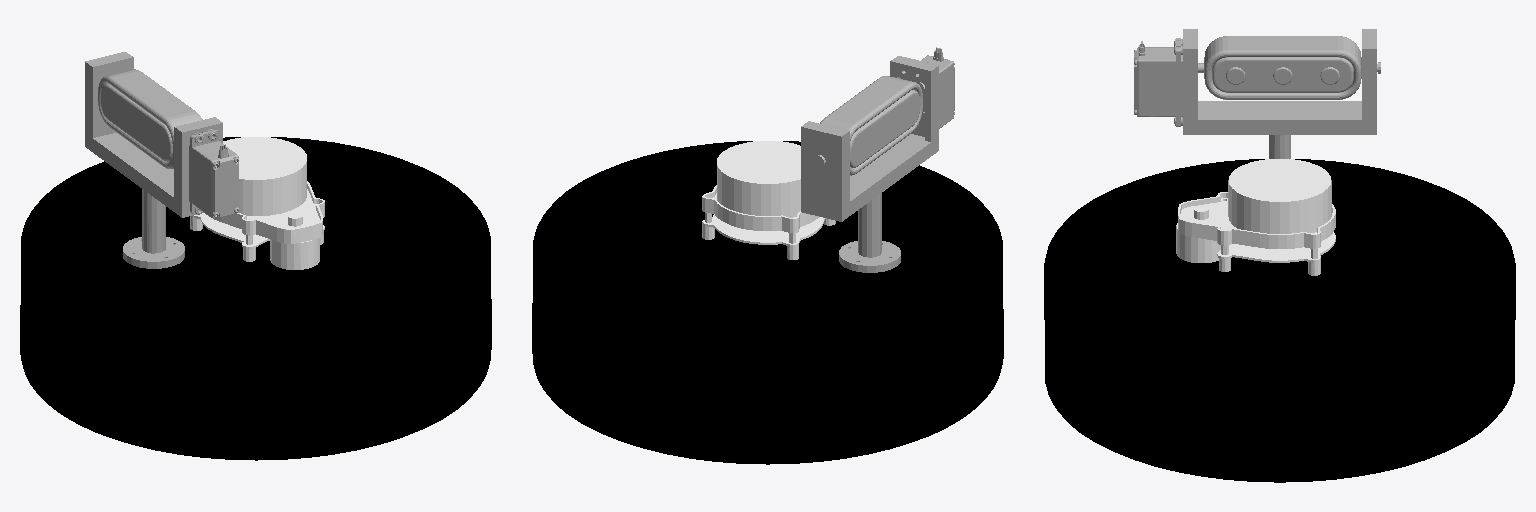
URDF robot description (rbot):
<?xml version="1.0" encoding="utf-8"?>
<!-- This URDF was automatically created by SolidWorks to URDF Exporter! Originally created by [author] ([email redacted]) 
     Commit Version: 1.6.0-4-g7f85cfe  Build Version: 1.6.7995.38578
     For more information, please see http://wiki.ros.org/sw_urdf_exporter -->
<robot
  name="rbot">
  <link
    name="base_link">
    <inertial>
      <origin
        xyz="-0.012172 0.00015707 -0.048435"
        rpy="0 0 0" />
      <mass
        value="5.4228" />
      <inertia
        ixx="0.0083305"
        ixy="-1.3518E-07"
        ixz="0.00024797"
        iyy="0.0087755"
        iyz="-8.3209E-07"
        izz="0.016381" />
    </inertial>
    <visual>
      <origin
        xyz="0 0 0"
        rpy="0 0 0" />
      <geometry>
        <mesh
          filename="package://rbot/meshes/base_link.STL" />
      </geometry>
      <material
        name="">
        <color
          rgba="0 0 0 0" />
      </material>
    </visual>
    <collision>
      <origin
        xyz="0 0 0"
        rpy="0 0 0" />
      <geometry>
        <mesh
          filename="package://rbot/meshes/base_link.STL" />
      </geometry>
    </collision>
  </link>
  <link
    name="fWheel">
    <inertial>
      <origin
        xyz="1.6653E-15 0.004 4.996E-16"
        rpy="0 0 0" />
      <mass
        value="0.34828" />
      <inertia
        ixx="1.4979E-06"
        ixy="6.8554E-39"
        ixz="-6.3017E-39"
        iyy="2.6586E-06"
        iyz="4.4557E-21"
        izz="1.4979E-06" />
    </inertial>
    <visual>
      <origin
        xyz="0 0 0"
        rpy="0 0 0" />
      <geometry>
        <mesh
          filename="package://rbot/meshes/fWheel.STL" />
      </geometry>
      <material
        name="">
        <color
          rgba="0.79216 0.81961 0.93333 1" />
      </material>
    </visual>
    <collision>
      <origin
        xyz="0 0 0"
        rpy="0 0 0" />
      <geometry>
        <mesh
          filename="package://rbot/meshes/fWheel.STL" />
      </geometry>
    </collision>
  </link>
  <joint
    name="fWheel_bc"
    type="continuous">
    <origin
      xyz="0.10498 -0.004012 -0.09452"
      rpy="0 0 0" />
    <parent
      link="base_link" />
    <child
      link="fWheel" />
    <axis
      xyz="0 -1 0" />
          <joint_properties damping="0.1" friction="1.0"/>
                <limit effort="2.6" velocity="20"/>
  </joint>
  <link
    name="l_rWheel">
    <inertial>
      <origin
        xyz="3.3862E-15 0.010693 1.6653E-15"
        rpy="0 0 0" />
      <mass
        value="0.52108" />
      <inertia
        ixx="8.5294E-05"
        ixy="-2.2354E-20"
        ixz="-1.1654E-19"
        iyy="1.5938E-04"
        iyz="5.156E-19"
        izz="8.5294E-05" />
    </inertial>
    <visual>
      <origin
        xyz="0 0 0"
        rpy="0 0 0" />
      <geometry>
        <mesh
          filename="package://rbot/meshes/l_rWheel.STL" />
      </geometry>
      <material
        name="">
        <color
          rgba="0.75294 0.75294 0.75294 1" />
      </material>
    </visual>
    <collision>
      <origin
        xyz="0 0 0"
        rpy="0 0 0" />
      <geometry>
        <mesh
          filename="package://rbot/meshes/l_rWheel.STL" />
      </geometry>
    </collision>
  </link>
  <joint
    name="l_rWheel_bc"
    type="continuous">
    <origin
      xyz="-0.047024 0.074988 -0.08"
      rpy="0 0 0" />
    <parent
      link="base_link" />
    <child
      link="l_rWheel" />
    <axis
      xyz="0 1 0" />
          <joint_properties damping="0.1" friction="1.0"/>
                <limit effort="2.6" velocity="20"/>
  </joint>
  <link
    name="r_rWheel">
    <inertial>
      <origin
        xyz="-1.6653E-16 0.0083074 0"
        rpy="0 0 0" />
      <mass
        value="0.52108" />
      <inertia
        ixx="8.5294E-05"
        ixy="-1.5452E-18"
        ixz="1.7644E-20"
        iyy="1.5938E-04"
        iyz="4.8937E-20"
        izz="8.5294E-05" />
    </inertial>
    <visual>
      <origin
        xyz="0 0 0"
        rpy="0 0 0" />
      <geometry>
        <mesh
          filename="package://rbot/meshes/r_rWheel.STL" />
      </geometry>
      <material
        name="">
        <color
          rgba="0.75294 0.75294 0.75294 1" />
      </material>
    </visual>
    <collision>
      <origin
        xyz="0 0 0"
        rpy="0 0 0" />
      <geometry>
        <mesh
          filename="package://rbot/meshes/r_rWheel.STL" />
      </geometry>
    </collision>
  </link>
  <joint
    name="r_rWheel_bc"
    type="continuous">
    <origin
      xyz="-0.047024 -0.094012 -0.08"
      rpy="0 0 0" />
    <parent
      link="base_link" />
    <child
      link="r_rWheel" />
    <axis
      xyz="0 1 0" />
          <joint_properties damping="0.1" friction="1.0"/>
                <limit effort="2.6" velocity="20"/>
  </joint>
  <link
    name="fan">
    <inertial>
      <origin
        xyz="-1.1102E-16 -2.7756E-17 0.0077206"
        rpy="0 0 0" />
      <mass
        value="0.025691" />
      <inertia
        ixx="8.875E-07"
        ixy="-5.0086E-23"
        ixz="-2.4209E-21"
        iyy="8.875E-07"
        iyz="1.8061E-22"
        izz="1.6294E-06" />
    </inertial>
    <visual>
      <origin
        xyz="0 0 0"
        rpy="0 0 0" />
      <geometry>
        <mesh
          filename="package://rbot/meshes/fan.STL" />
      </geometry>
      <material
        name="">
        <color
          rgba="0.79216 0.81961 0.93333 1" />
      </material>
    </visual>
    <collision>
      <origin
        xyz="0 0 0"
        rpy="0 0 0" />
      <geometry>
        <mesh
          filename="package://rbot/meshes/fan.STL" />
      </geometry>
    </collision>
  </link>
  <joint
    name="fan_bc"
    type="continuous">
    <origin
      xyz="0.009976 -1.1899E-05 -0.069083"
      rpy="0 0 0" />
    <parent
      link="base_link" />
    <child
      link="fan" />
    <axis
      xyz="0 0 -1" />
  </joint>
  <link
    name="Camera_base">
    <inertial>
      <origin
        xyz="5.9319E-05 -0.017419 0.063064"
        rpy="0 0 0" />
      <mass
        value="0.20962" />
      <inertia
        ixx="0.00017945"
        ixy="-2.6127E-09"
        ixz="9.9494E-10"
        iyy="6.7581E-05"
        iyz="-1.1353E-05"
        izz="0.0001248" />
    </inertial>
    <visual>
      <origin
        xyz="0 0 0"
        rpy="0 0 0" />
      <geometry>
        <mesh
          filename="package://rbot/meshes/Camera_base.STL" />
      </geometry>
      <material
        name="">
        <color
          rgba="0.75294 0.75294 0.75294 1" />
      </material>
    </visual>
    <collision>
      <origin
        xyz="0 0 0"
        rpy="0 0 0" />
      <geometry>
        <mesh
          filename="package://rbot/meshes/Camera_base.STL" />
      </geometry>
    </collision>
  </link>
  <joint
    name="Camera_base_tc"
    type="fixed">
     <origin
      xyz="-0.0750239674809218 -1.19645664770351E-05 0.00499999999999973"
      rpy="0 0 0" />
    <parent
      link="base_link" />
    <child
      link="Camera_base" />
    <axis
      xyz="0 0 0" />
  </joint>
  <link
    name="Camera">
    <inertial>
      <origin
        xyz="-0.00027597 -0.062357 2.6907E-06"
        rpy="0 0 0" />
      <mass
        value="0.16364" />
      <inertia
        ixx="6.9627E-05"
        ixy="5.9527E-19"
        ixz="1.0089E-06"
        iyy="1.1797E-05"
        iyz="2.5215E-20"
        izz="6.6738E-05" />
    </inertial>
    <visual>
      <origin
        xyz="0 0 0"
        rpy="0 0 0" />
      <geometry>
        <mesh
          filename="package://rbot/meshes/Camera.STL" />
      </geometry>
      <material
        name="">
        <color
          rgba="0.75294 0.75294 0.75294 1" />
      </material>
    </visual>
    <collision>
      <origin
        xyz="0 0 0"
        rpy="0 0 0" />
      <geometry>
        <mesh
          filename="package://rbot/meshes/Camera.STL" />
      </geometry>
    </collision>
  </link>
  <joint
    name="Camera_Camera_base"
    type="continuous">
    <origin
      xyz="0.000199999999997202 0.0644000000000001 0.0900000000000034"
      rpy="0 0 0" />
              <joint_properties damping="0.1" friction="1.0"/>
                <limit effort="2.6" velocity="20"/>
    <parent
      link="Camera_base" />
    <child
      link="Camera" />
    <axis
      xyz="0 1 0" />

  </joint>
  <link
    name="LiDar">
    <inertial>
      <origin
        xyz="0 0 0"
        rpy="0 0 0" />
      <mass
        value="0.2" />
      <inertia
        ixx="0"
        ixy="0"
        ixz="0"
        iyy="0"
        iyz="0"
        izz="0" />
    </inertial>
    <visual>
      <origin
        xyz="0 0 0"
        rpy="0 0 0" />
      <geometry>
        <mesh
          filename="package://rbot/meshes/LiDar.STL" />
      </geometry>
      <material
        name="">
        <color
          rgba="1 1 1 1" />
      </material>
    </visual>
    <collision>
      <origin
        xyz="0 0 0"
        rpy="0 0 0" />
      <geometry>
        <mesh
          filename="package://rbot/meshes/LiDar.STL" />
      </geometry>
    </collision>
  </link>
  <joint
    name="LiDar_tc"
    type="fixed">
    <origin
      xyz="-2.3967480921927E-05 -1.19645664762025E-05 0.019"
      rpy="0 0 0" />
    <parent
      link="base_link" />
    <child
      link="LiDar" />
    <axis
      xyz="0 0 0" />
  </joint>
    <gazebo>
    <plugin name="gazebo_ros_control" filename="libgazebo_ros_control.so">
    <robotNamespace>rbot</robotNamespace>
    </plugin>
</gazebo>  
<transmission name="tran1">
    <type>transmission_interface/SimpleTransmission</type>
    <joint name="Camera_Camera_base">
        <hardwareInterface>EffortJointInterface</hardwareInterface>
    </joint>
    <actuator name="camera_motor">
        <hardwareInterface>EffortJointInterface</hardwareInterface>
        <mechanicalReduction>1</mechanicalReduction>
    </actuator>
</transmission>
<transmission name="tran2">
    <type>transmission_interface/SimpleTransmission</type>
    <joint name="r_rWheel_bc">
        <hardwareInterface>EffortJointInterface</hardwareInterface>
    </joint>
    <actuator name="r_rWheel_bc_motor">
        <hardwareInterface>EffortJointInterface</hardwareInterface>
        <mechanicalReduction>50</mechanicalReduction>
    </actuator>
</transmission>
<transmission name="tran3">
    <type>transmission_interface/SimpleTransmission</type>
    <joint name="l_rWheel_bc">
        <hardwareInterface>EffortJointInterface</hardwareInterface>
    </joint>
    <actuator name="l_rWheel_bc_motor">
        <hardwareInterface>EffortJointInterface</hardwareInterface>
        <mechanicalReduction>50</mechanicalReduction>
    </actuator>
</transmission>

  <gazebo reference="Camera">
    <sensor type="camera" name="camera1">
      <update_rate>30.0</update_rate>
      <camera name="head">
        <horizontal_fov>1.3962634</horizontal_fov>
        <image>
          <width>800</width>
          <height>800</height>
          <format>R8G8B8</format>
        </image>
        <clip>
          <near>0.02</near>
          <far>300</far>
        </clip>
        <noise>
          <type>gaussian</type>
          <!-- Noise is sampled independently per pixel on each frame.
               That pixel's noise value is added to each of its color
               channels, which at that point lie in the range [0,1]. -->
          <mean>0.0</mean>
          <stddev>0.007</stddev>
        </noise>
      </camera>
      <plugin name="camera_controller" filename="libgazebo_ros_camera.so">
        <alwaysOn>true</alwaysOn>
        <updateRate>0.0</updateRate>
        <cameraName>gazebo_demo/camera</cameraName>
        <imageTopicName>image_raw</imageTopicName>
        <cameraInfoTopicName>camera_info</cameraInfoTopicName>
        <frameName>Camera</frameName>
        <hackBaseline>0.07</hackBaseline>
        <distortionK1>0.0</distortionK1>
        <distortionK2>0.0</distortionK2>
        <distortionK3>0.0</distortionK3>
        <distortionT1>0.0</distortionT1>
        <distortionT2>0.0</distortionT2>
      </plugin>
    </sensor>
  </gazebo>
  <!-- hokuyo -->
  <gazebo reference="LiDar">
    <sensor type="gpu_ray" name="head_hokuyo_sensor">
      <pose>0 0 0 0 0 3.14</pose>
      <visualize>false</visualize>
      <update_rate>100</update_rate>
      <ray>
        <scan>
          <horizontal>
            <samples>720</samples>
            <resolution>1</resolution>
            <min_angle>-3.14</min_angle>
            <max_angle>3.14</max_angle>
          </horizontal>
        </scan>
        <range>
          <min>0.10</min>
          <max>30.0</max>
          <resolution>0.01</resolution>
        </range>
        <noise>
          <type>gaussian</type>
          <!-- Noise parameters based on published spec for Hokuyo laser
               achieving "+-30mm" accuracy at range < 10m.  A mean of 0.0m and
               stddev of 0.01m will put 99.7% of samples within 0.03m of the true
               reading. -->
          <mean>0.0</mean>
          <stddev>0.01</stddev>
        </noise>
      </ray>
      <plugin name="gazebo_ros_head_hokuyo_controller" filename="libgazebo_ros_gpu_laser.so">
        <topicName>/scan</topicName>
        <frameName>LiDar</frameName>
      </plugin>
    </sensor>
  </gazebo>
  <gazebo>
  <plugin name="differential_drive_controller" filename="libgazebo_ros_diff_drive.so">

    <!-- Plugin update rate in Hz -->
    <updateRate>100</updateRate>

    <!-- Name of left joint, defaults to `left_joint` -->
    <leftJoint>l_rWheel_bc</leftJoint>

    <!-- Name of right joint, defaults to `right_joint` -->
    <rightJoint>r_rWheel_bc</rightJoint>

    <!-- The distance from the center of one wheel to the other, in meters, defaults to 0.34 m -->
    <wheelSeparation>0.169</wheelSeparation>

    <!-- Diameter of the wheels, in meters, defaults to 0.15 m -->
    <wheelDiameter>0.064</wheelDiameter>

    <!-- Wheel acceleration, in rad/s^2, defaults to 0.0 rad/s^2 -->
    <wheelAcceleration>0.5</wheelAcceleration>

    <!-- Maximum torque which the wheels can produce, in Nm, defaults to 5 Nm -->
    <wheelTorque>10</wheelTorque>

    <!-- Topic to receive geometry_msgs/Twist message commands, defaults to `cmd_vel` -->
    <commandTopic>cmd_vel</commandTopic>

    <!-- Topic to publish nav_msgs/Odometry messages, defaults to `odom` -->
    <odometryTopic>odom</odometryTopic>

    <!-- Odometry frame, defaults to `odom` -->
    <odometryFrame>odom</odometryFrame>

    <!-- Robot frame to calculate odometry from, defaults to `base_footprint` -->
    <robotBaseFrame>base_link</robotBaseFrame>

    <!-- Odometry source, 0 for ENCODER, 1 for WORLD, defaults to WORLD -->
    <odometrySource>1</odometrySource>

    <!-- Set to true to publish transforms for the wheel links, defaults to false -->
    <publishWheelTF>true</publishWheelTF>

    <!-- Set to true to publish transforms for the odometry, defaults to true -->
    <publishOdom>true</publishOdom>

    <!-- Set to true to publish sensor_msgs/JointState on /joint_states for the wheel joints, defaults to false -->
    <publishWheelJointState>true</publishWheelJointState>

    <!-- Set to true to swap right and left wheels, defaults to true -->
    <legacyMode>false</legacyMode>
  </plugin>
</gazebo>
  <joint name="imu_joint" type="fixed">
      <axis xyz="0 0 1" />
      <origin xyz="0 0 0.015" rpy="0 0 0"/>
      <parent link="base_link"/>
      <child link="imu_link"/>
  </joint>
  <!-- Imu Link-->
  <link name="imu_link">
        <collision>
            <origin xyz="0 0 0" rpy="0 0 0"/>
            <geometry>
                <box size="0.01 0.01 0.01"/>
            </geometry>
        </collision>
        <visual>
            <origin xyz="0 0 0" rpy="0 0 0"/>
            <geometry>
                <box size="0.01 0.01 0.01"/>
            </geometry>
        </visual>
        <inertial>
            <mass value="0.001" />
            <origin xyz="0 0 0" rpy="0 0 0"/>
            <inertia ixx="0.00000015" ixy="0" ixz="0" iyy="0.00000015" iyz="0" izz="0.00000015" />
        </inertial>
  </link>
  <!--IMU Link gazebo plugin-->
  <gazebo reference="imu_link">
    <gravity>true</gravity>
    <sensor name="imu_sensor" type="imu">
      <always_on>true</always_on>
      <update_rate>100</update_rate>
      <visualize>true</visualize>
      <topic>__default_topic__</topic>
      <plugin filename="libgazebo_ros_imu_sensor.so" name="imu_plugin">
        <topicName>/imu</topicName>
        <bodyName>imu_link</bodyName>
        <updateRateHZ>100.0</updateRateHZ>
        <gaussianNoise>0.0</gaussianNoise>
        <xyzOffset>0 0 0</xyzOffset>
        <rpyOffset>0 0 0</rpyOffset>
        <frameName>imu_link</frameName>
        <initialOrientationAsReference>false</initialOrientationAsReference>
      </plugin>
      <pose>0 0 0 0 0 0</pose>
    </sensor>
  </gazebo>
  <gazebo reference="base_link">
      <selfCollide>false</selfCollide>

    <material>Gazebo/RedBright</material>
  </gazebo> 
  <gazebo reference="Camera_base">
      <selfCollide>false</selfCollide>

    <material>Gazebo/DarkGrey</material>
  </gazebo> 
  <gazebo reference="Camera">
      <selfCollide>false</selfCollide>

    <material>Gazebo/Grey</material>
  </gazebo> 
  <gazebo reference="LiDar">
      <selfCollide>false</selfCollide>

    <material>Gazebo/White</material>
  </gazebo> 
    <gazebo reference="fWheel">
        <mu1>0</mu1>
    <mu2>0</mu2>
    <material>Gazebo/Black</material>
        <selfCollide>false</selfCollide>

  </gazebo> 
    <gazebo reference="r_rWheel">
        <mu1>1000000</mu1>
    <mu2>1000000</mu2>
      <kp>10000000.0</kp>
  <kd>1000.0</kd>
    <material>Gazebo/Black</material>
        <selfCollide>false</selfCollide>

  </gazebo> 
    <gazebo reference="l_rWheel">
        <mu1>1000000</mu1>
    <mu2>1000000</mu2>
      <kp>10000000.0</kp>
  <kd>1000.0</kd>
    <material>Gazebo/Black</material>
        <selfCollide>false</selfCollide>

  </gazebo> 


</robot>

--- What the picture shows (computed from the rendered views, not written in the file) ---
The picture shows the robot from 3 angles, left to right: view 1: azimuth 30°, elevation 25°; view 2: azimuth 150°, elevation 25°; view 3: azimuth 270°, elevation 25°; orthographic projection.
Robot: rbot — 9 links, 8 joints (5 continuous, 3 fixed); root link base_link; default pose: every joint at zero.
Visible links, largest first — view 1: base_link, Camera_base, LiDar, Camera; view 2: base_link, Camera_base, LiDar, Camera; view 3: base_link, LiDar, Camera_base, Camera.
Boxes of the visible links, x1,y1,x2,y2 form: base_link: [20, 137, 491, 460]; Camera_base: [85, 52, 238, 268]; LiDar: [190, 137, 324, 269]; Camera: [98, 69, 202, 168]; base_link: [532, 141, 1003, 464]; Camera_base: [801, 47, 954, 272]; LiDar: [702, 141, 835, 259]; Camera: [814, 76, 922, 175]; base_link: [1044, 159, 1515, 482]; LiDar: [1176, 159, 1335, 275]; Camera_base: [1134, 29, 1376, 158]; Camera: [1204, 36, 1380, 99].
Bounding box of the posed robot: 0.3 × 0.2998 × 0.227 m (x, y, z).
8 mesh visuals loaded from 8 distinct referenced files (8 binary STL).